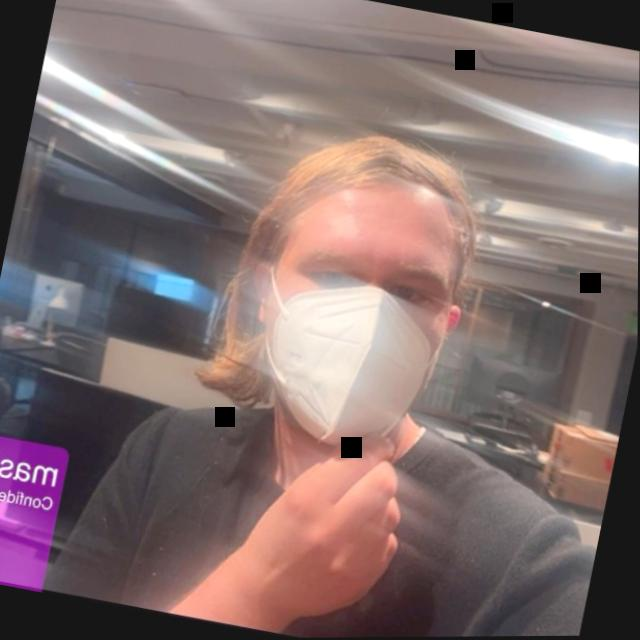Mask: (198, 88, 516, 464)
